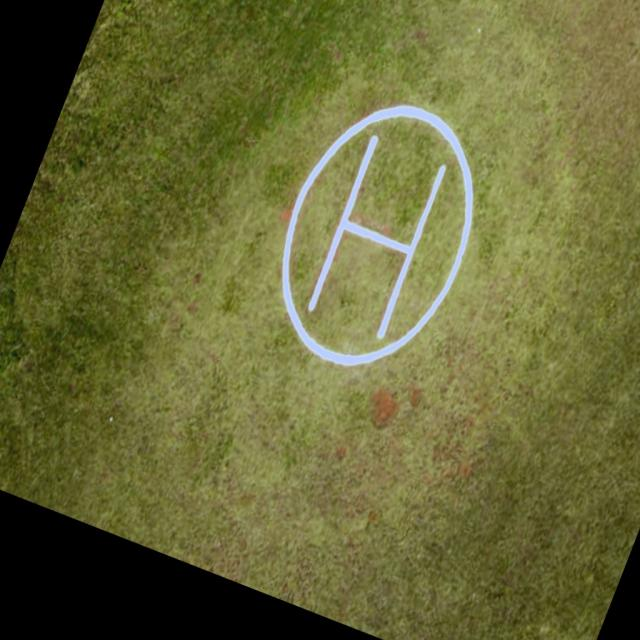helipad: (270, 95, 482, 373)
